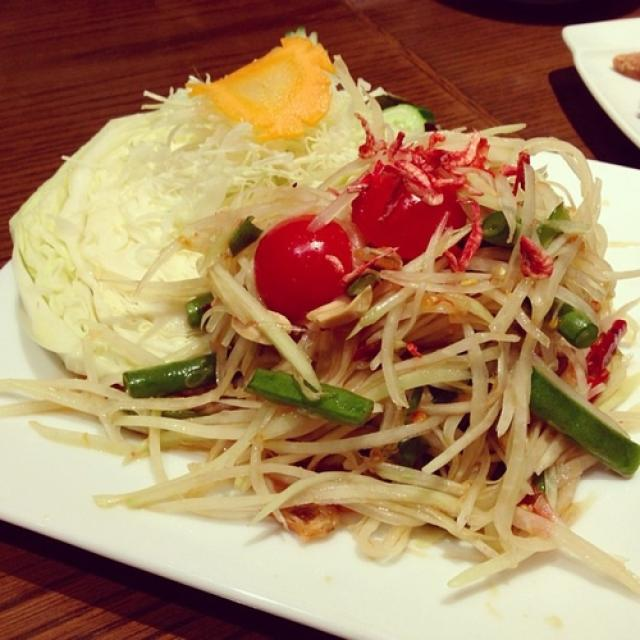蔬菜料理: (12, 26, 634, 592)
